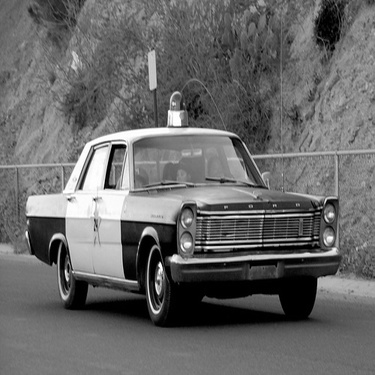car: (15, 96, 351, 303)
